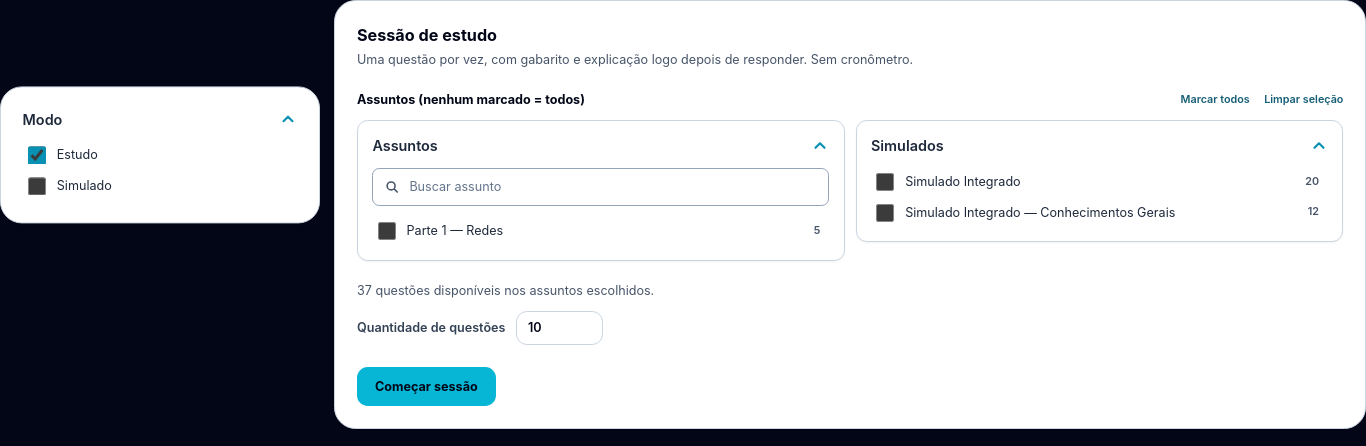
Test: PracticeHub › reúne estudo e simulado numa tela só, com os assuntos escolhidos uma única vez
Check: the checkbox labelled "Estudo" is checked, box [28,147,46,165]
Check: the number of buttons "Começar sessão" is 1, box [357,367,496,406]
Click the checkbox labelled "Simulado" at {"x": 37, "y": 186}, box [28,177,46,195]
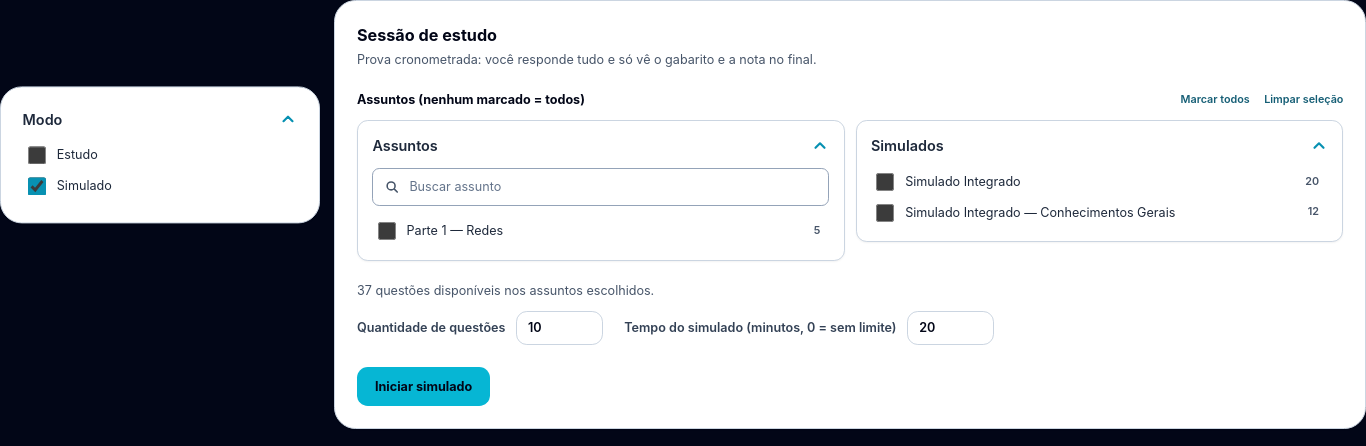
Check: the checkbox labelled "Simulado" is checked, box [28,177,46,195]
Check: the checkbox labelled "Estudo" is not checked, box [28,147,46,165]
Check: the number field labelled "Tempo do simulado (minutos, 0 = sem limite)" is shown, box [907,311,994,345]
